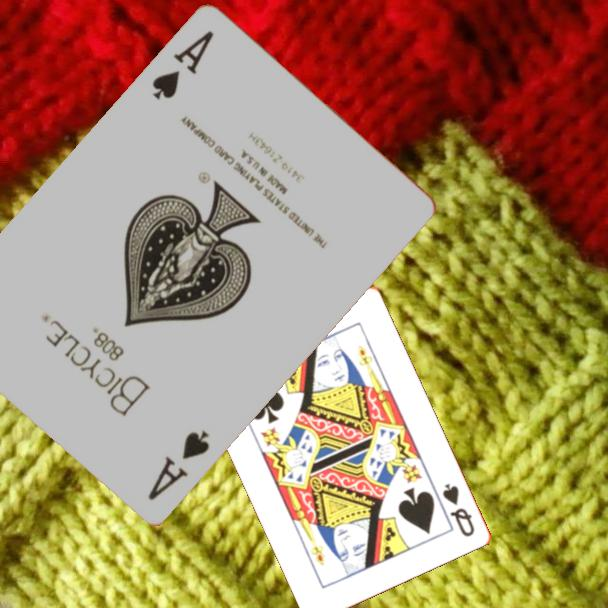s01: (144, 427, 213, 505), (148, 27, 217, 104)
s12: (439, 480, 478, 540)
